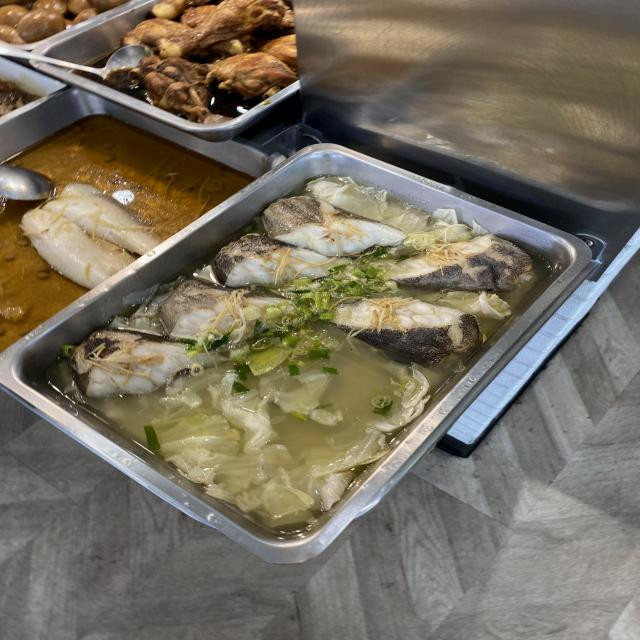Steamed fish: (255, 216, 472, 348)
